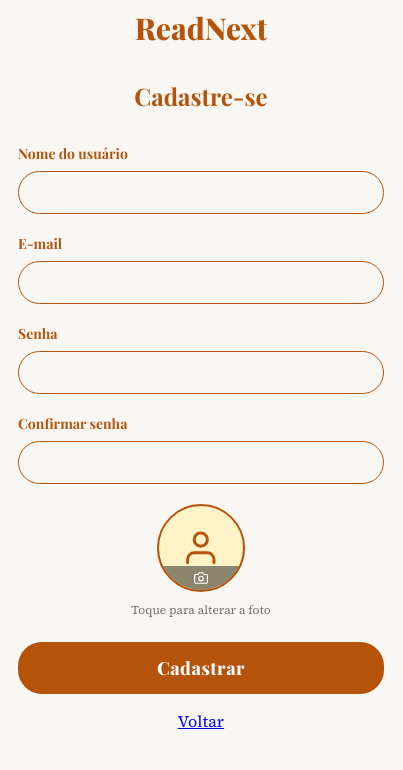
Test: Página de Cadastro — Validações › exibe erro quando campos estão vazios
The image size is (403, 770).
Click the button "Cadastrar" at x=201, y=668, box [18,642,384,694]
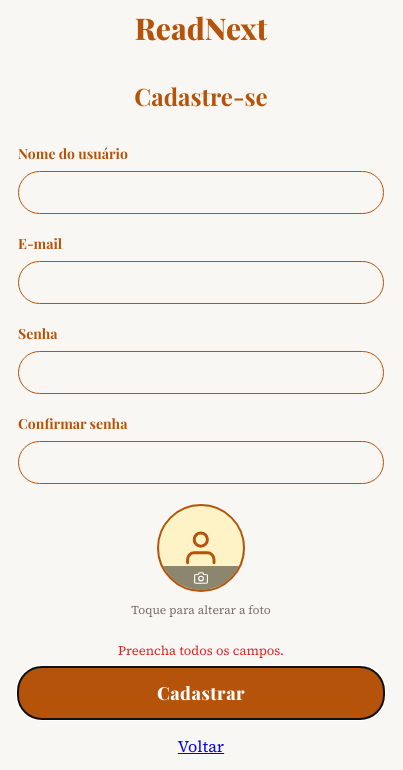
Expected: the text "Preencha todos os campos." is shown, [118,642,284,659]
